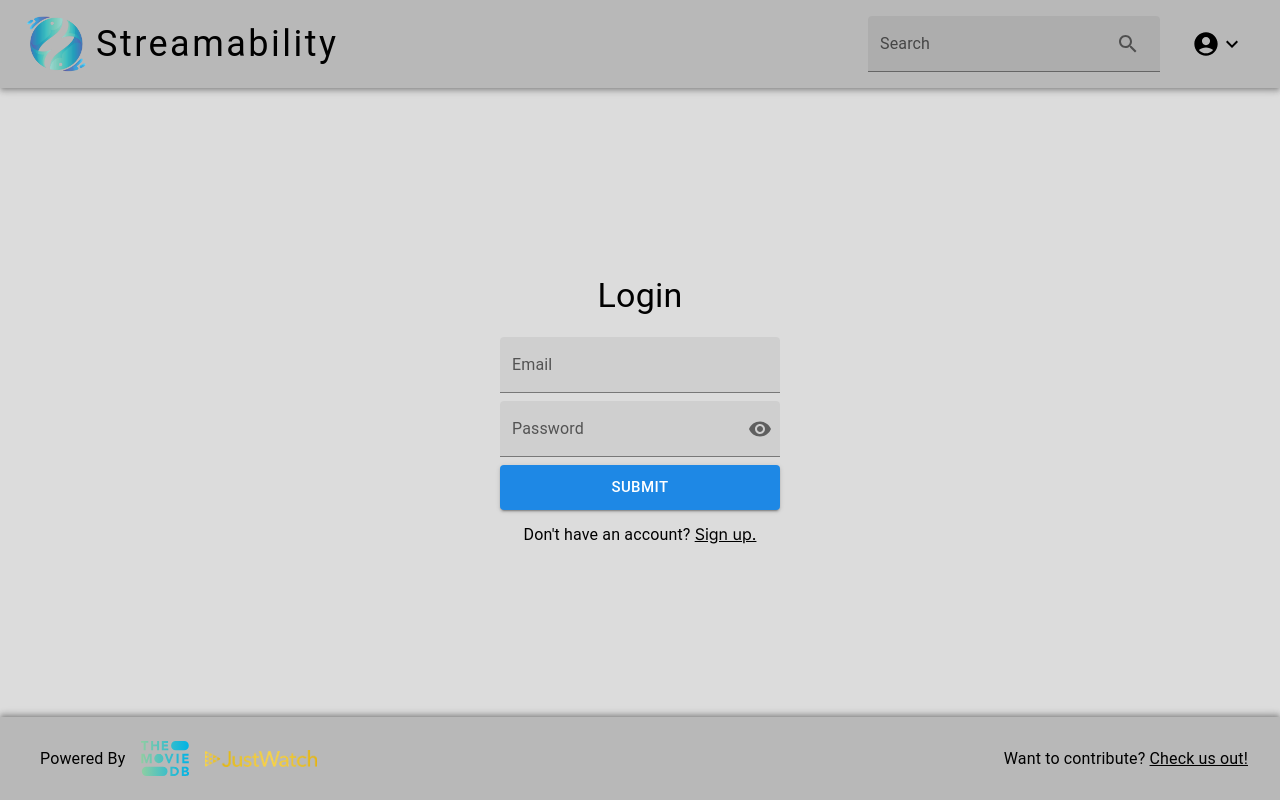
Test case: Login Screen › does not allow submission with invalid email
Check: the element with test id "login-screen" is shown, box [500,275,780,544]
In the field labelled "Email": x=640, y=365 [500,337,780,393], type "invalid@email"
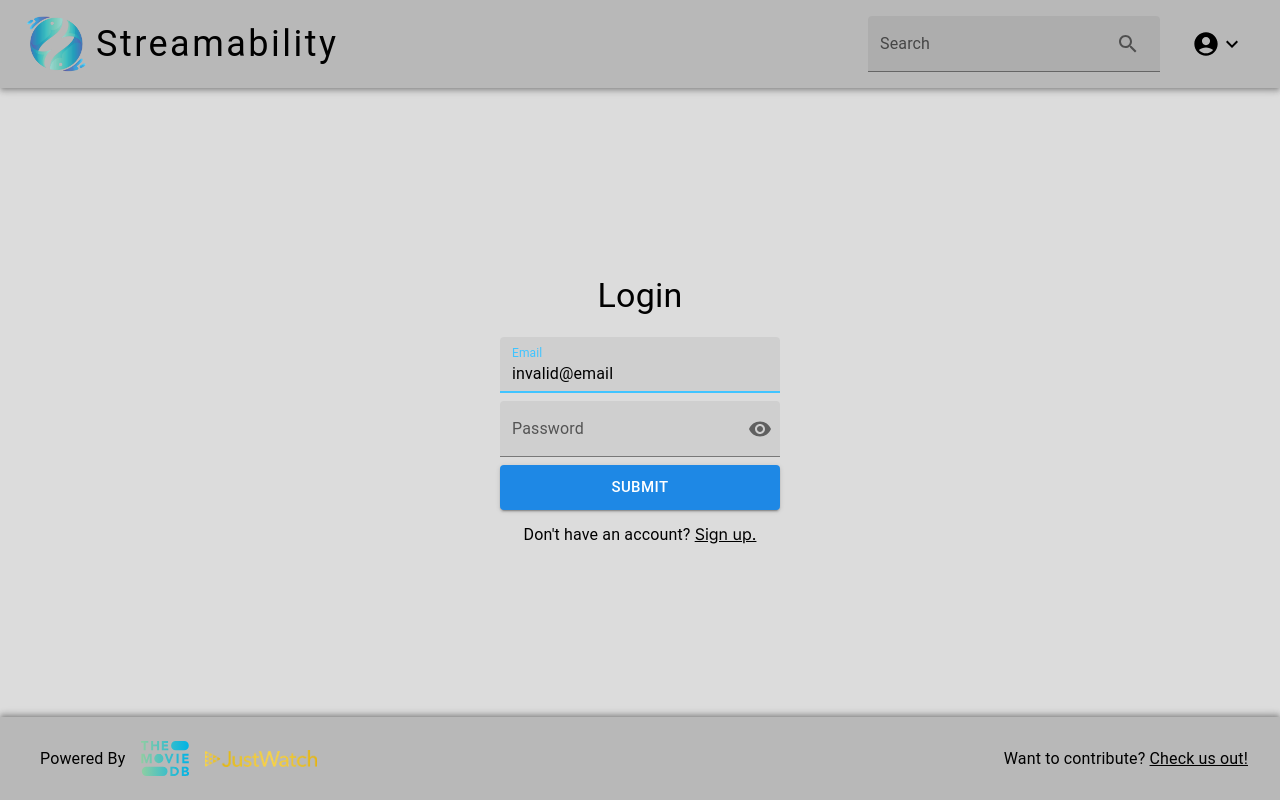
In the password field labelled "Password": x=616, y=429 [500,401,732,457], type "password"
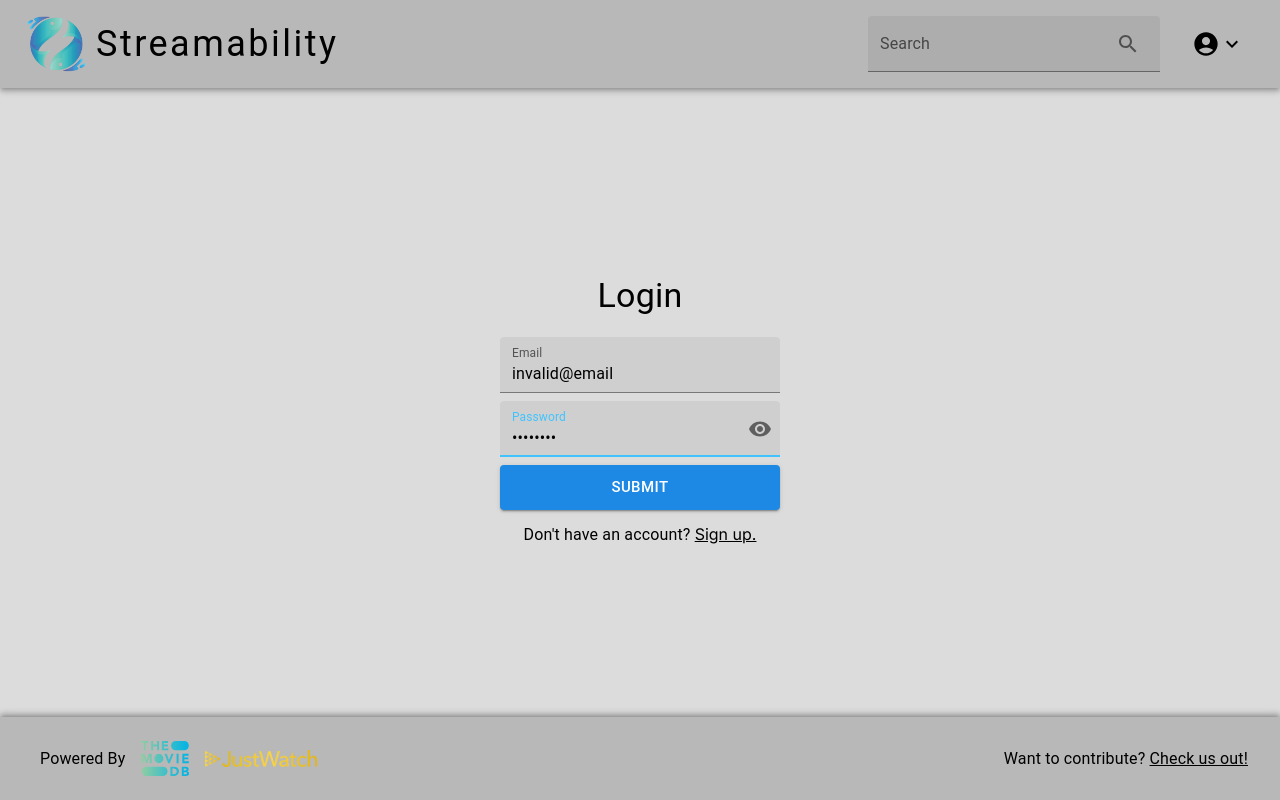
Click the button "Submit": x=640, y=487 [500,465,780,510]
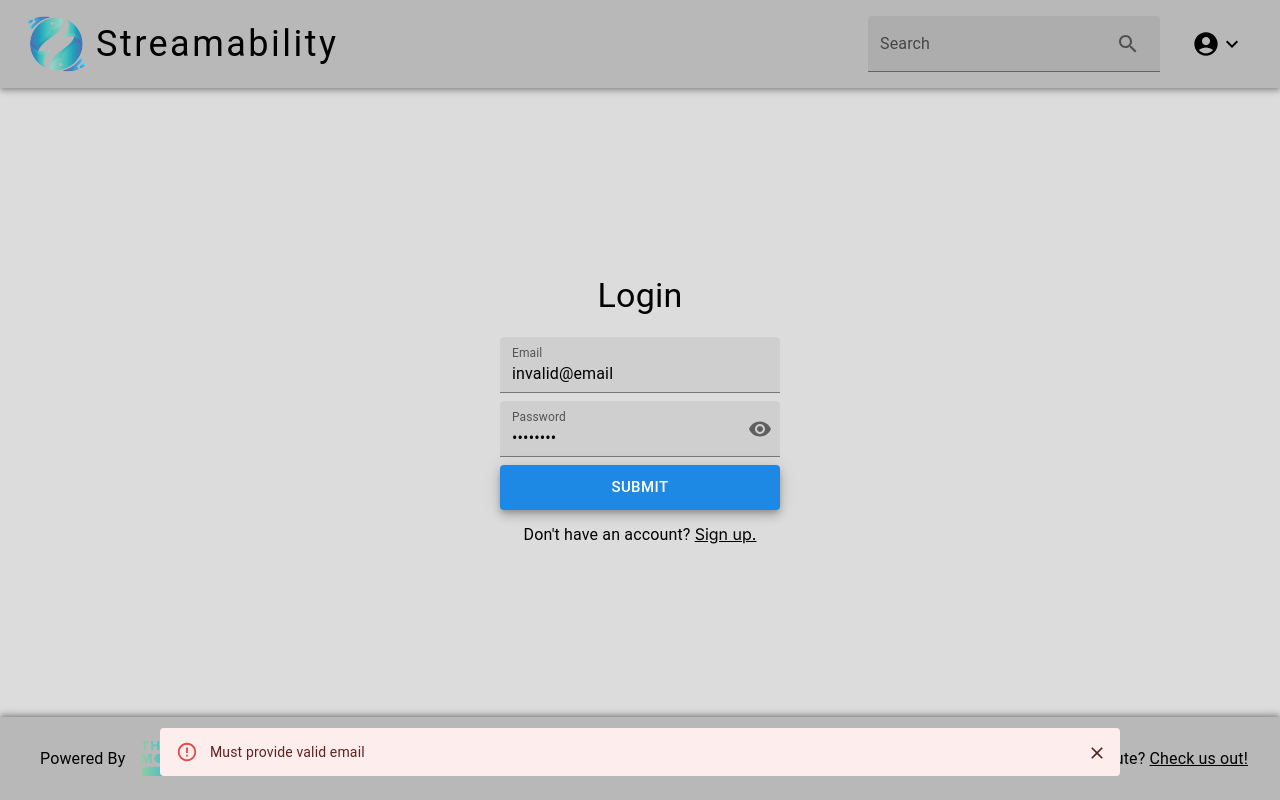
Check: the text "Must provide valid email" is shown, box [210,744,365,760]
